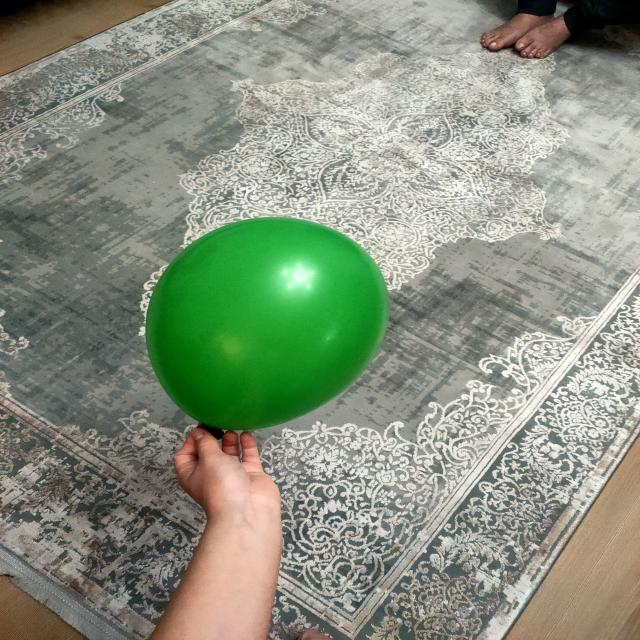green: (148, 217, 392, 433)
